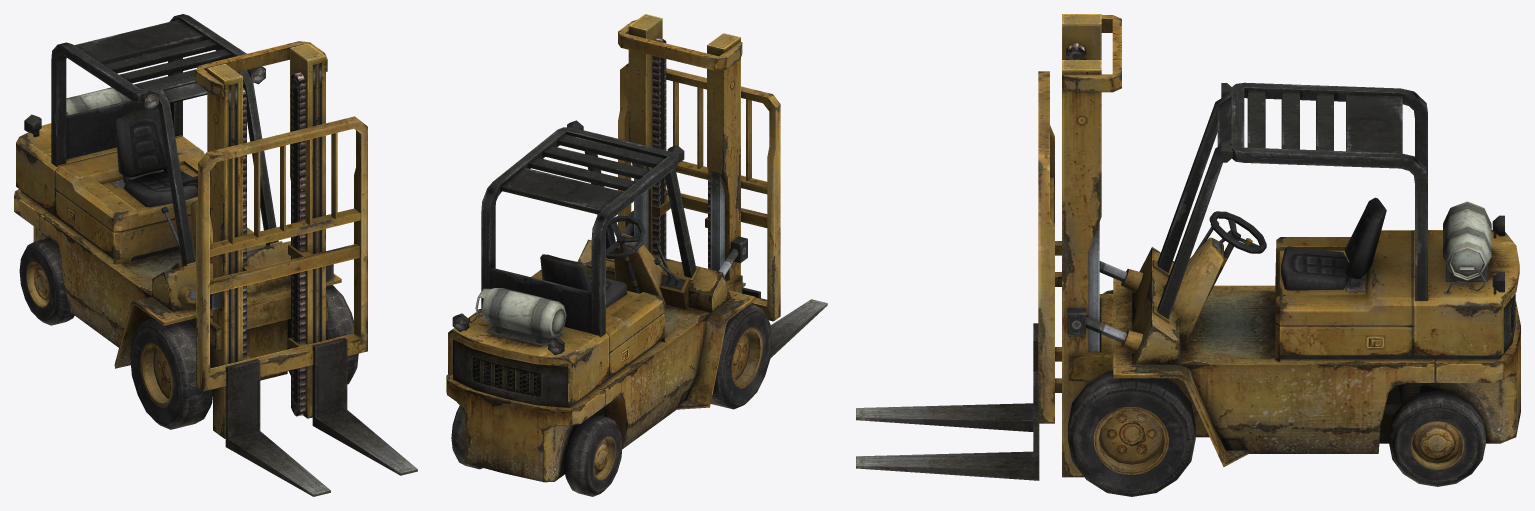
Rendered from Forklift.FBX.
The picture shows the model from 3 angles, left to right: view 1: azimuth 30°, elevation 25°; view 2: azimuth 150°, elevation 25°; view 3: azimuth 270°, elevation 25°; orthographic projection. The views are drawn at different scales.
Parts seen in each view (by area): view 1: Forklift; view 2: Forklift; view 3: Forklift.
Boxes of the visible parts, box(x1,y1,x2,y2) form: Forklift: box(14, 14, 417, 496); Forklift: box(446, 14, 827, 496); Forklift: box(856, 14, 1520, 496).
Bounding box in the file's own units: 1.55 × 2.98 × 4.39.
Materials: 1 (1 with a texture image).
